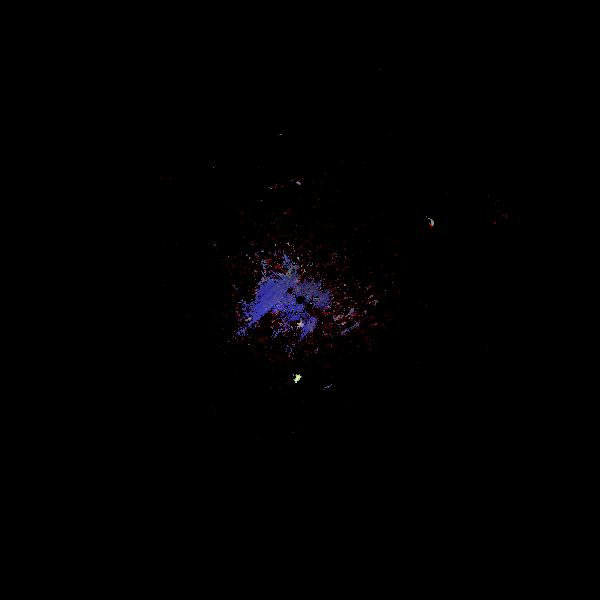roost: (284, 368, 302, 386)
